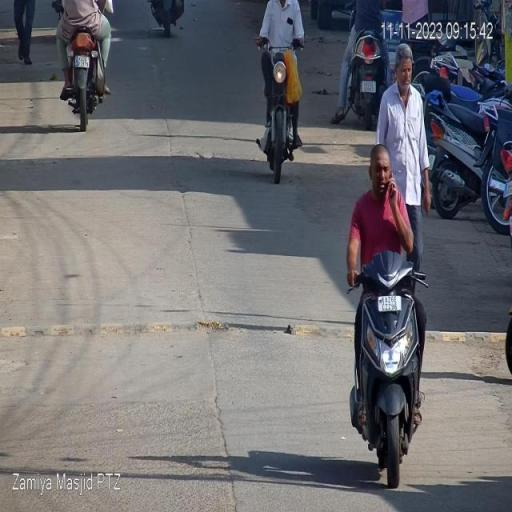using mobile: (387, 160, 397, 206)
